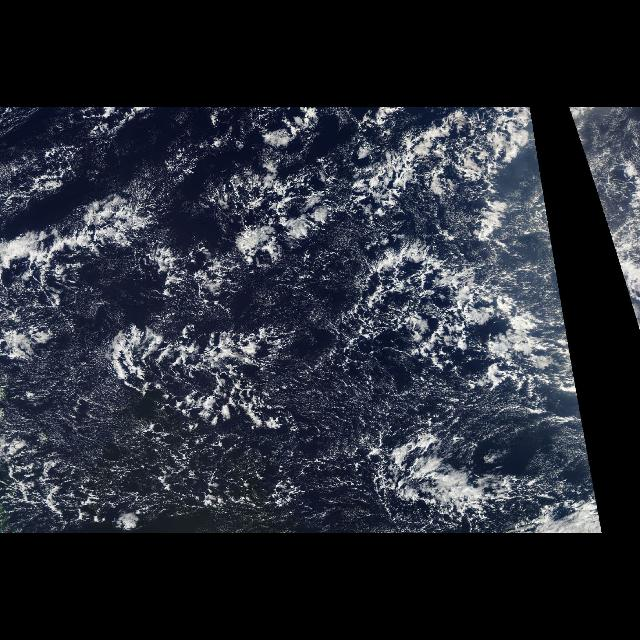Fish: (46, 143, 546, 490)
Gravel: (0, 129, 540, 523)
Sugar: (278, 265, 394, 467), (27, 287, 124, 481)
